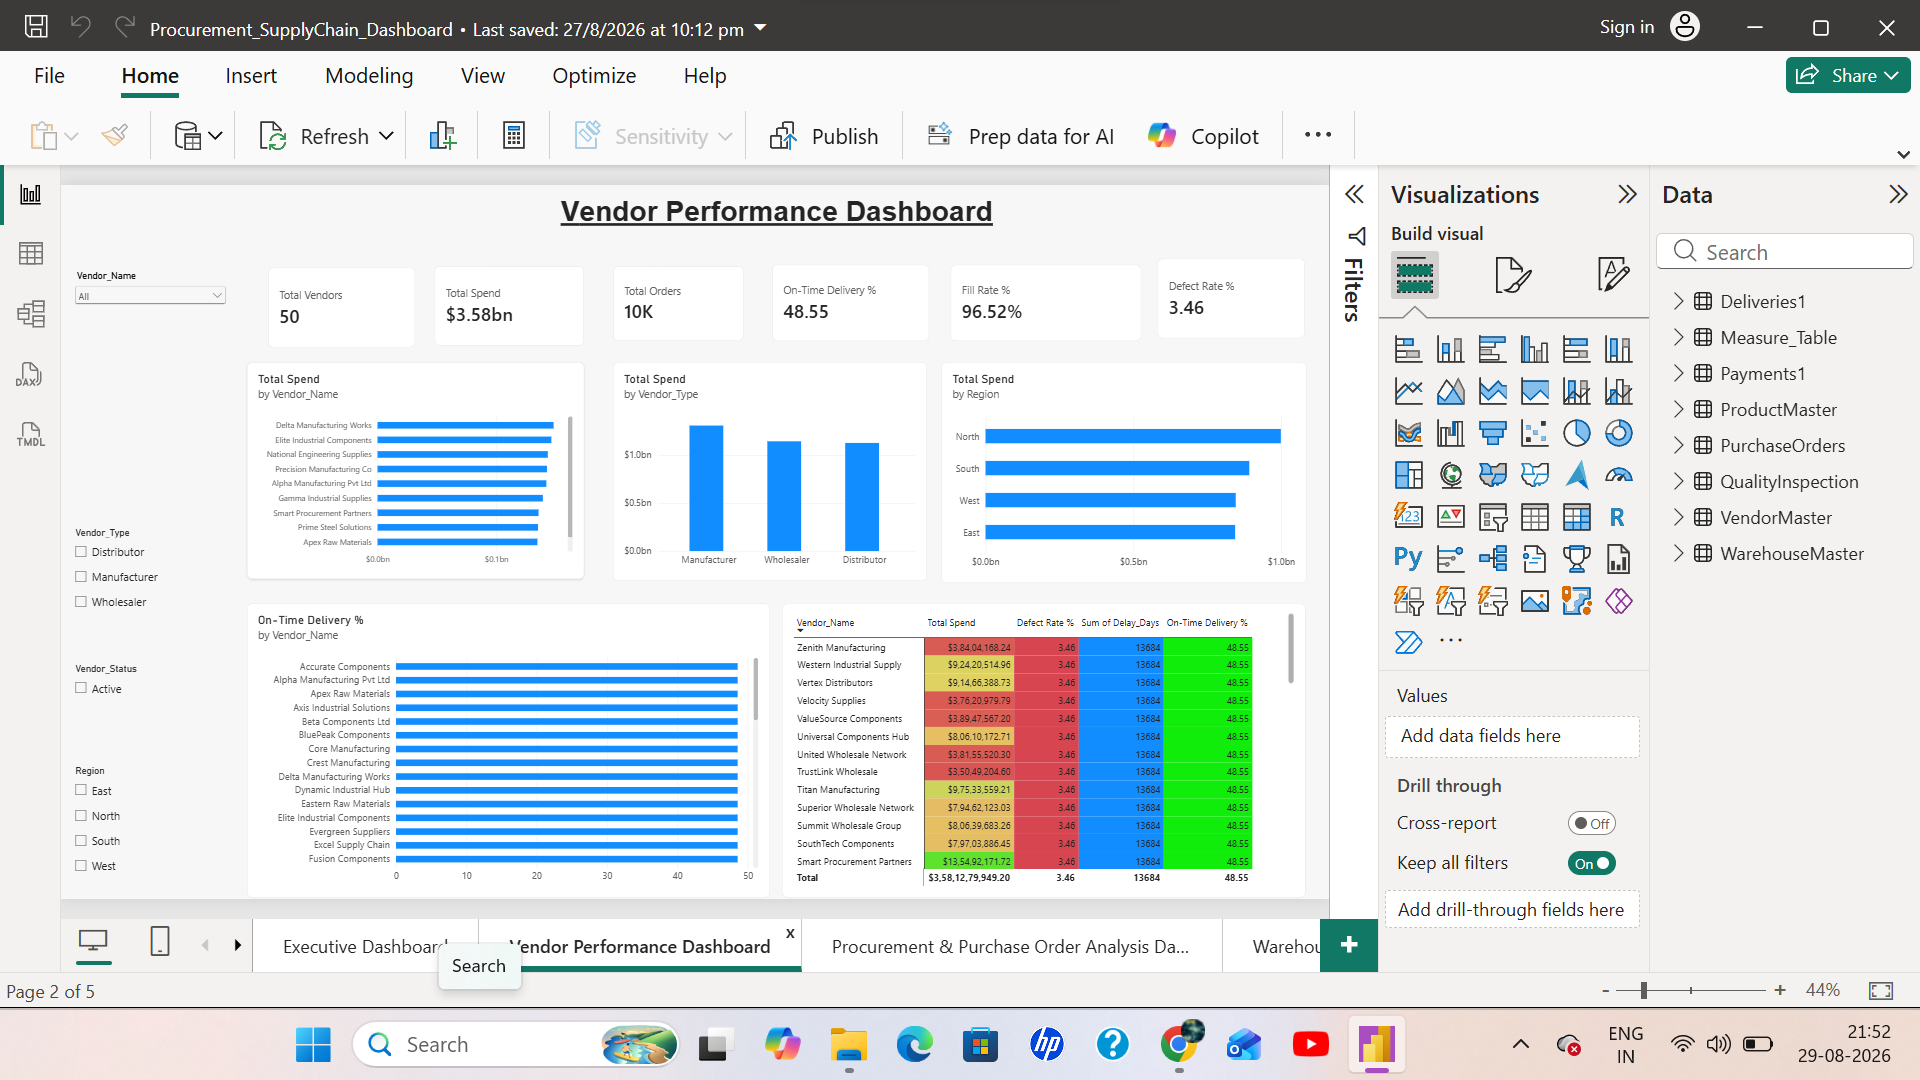

What the dashboard file says about the page in this screenshot:
{"tool":"powerbi","page":{"name":"Vendor Performance  Dashboard","canvas":[1920,1080],"ordinal":1},"visuals":[{"type":"cardVisual","fields":{"Data":["Measure_Table.Total Vendors"]},"box":[313.7,125.5,223.9,121.9],"z":0},{"type":"cardVisual","fields":{"Data":["Measure_Table.Total Spend"]},"box":[564.7,122.5,226.8,121.9],"z":1},{"type":"cardVisual","fields":{"Data":["Measure_Table.Total Orders"]},"box":[836.5,122.5,198.4,113.4],"z":2},{"type":"cardVisual","fields":{"Data":["Measure_Table.On-Time Delivery %"]},"box":[1075.5,119.5,238.1,116.2],"z":3},{"type":"cardVisual","fields":{"Data":["Measure_Table.Defect Rate %"]},"box":[1661.1,110.5,223.9,121.9],"z":5},{"type":"slicer","fields":{"Values":["VendorMaster.Vendor_Type"]},"box":[14.2,518.7,187.1,172.9],"z":7},{"type":"slicer","fields":{"Values":["VendorMaster.Vendor_Status"]},"box":[14.2,725.7,187.1,87.9],"z":8},{"type":"slicer","fields":{"Values":["VendorMaster.Region"]},"box":[14.2,878.7,209.8,181.4],"z":9},{"type":"slicer","fields":{"Values":["VendorMaster.Vendor_Name"]},"box":[14.9,128.5,239,239],"z":10},{"type":"clusteredBarChart","fields":{"Category":["VendorMaster.Vendor_Name"],"Y":["Measure_Table.Total Spend"]},"box":[280.8,268.9,510.9,328.6],"z":11},{"type":"pivotTable","fields":{"Rows":["VendorMaster.Vendor_Name"],"Values":["Measure_Table.Total Spend","Measure_Table.Defect Rate %","Sum(Deliveries1.Delay_Days)","Measure_Table.On-Time Delivery %"]},"box":[1093.5,633.4,791.7,445.2],"z":12},{"type":"clusteredColumnChart","fields":{"Category":["VendorMaster.Vendor_Type"],"Y":["Measure_Table.Total Spend"]},"box":[836.5,268.9,475,331.6],"z":13},{"type":"barChart","fields":{"Category":["VendorMaster.Region"],"Y":["Measure_Table.Total Spend"]},"box":[1332.5,268.9,552.7,334.6],"z":14},{"type":"barChart","fields":{"Category":["VendorMaster.Vendor_Name"],"Y":["Measure_Table.On-Time Delivery %"]},"box":[280.8,633.4,791.7,445.2],"z":15},{"type":"cardVisual","fields":{"Data":["Measure_Table.Fill Rate %"]},"box":[1347.4,119.5,289.8,116.5],"z":16},{"type":"textbox","box":[280.8,9,1604.3,101.6],"z":17}]}

Visuals, with their boxes on the page's 1920x1080 design canvas (x1, y1, x2, y2). These are canvas units, not pixel positions in the 1920x1080 screenshot, which may show the page scaled, cropped or inside an application window:
cardVisual - Measure_Table.Total Vendors: pyautogui.locateOnScreen(314, 126, 538, 247)
cardVisual - Measure_Table.Total Spend: pyautogui.locateOnScreen(565, 122, 792, 244)
cardVisual - Measure_Table.Total Orders: pyautogui.locateOnScreen(836, 122, 1035, 236)
cardVisual - Measure_Table.On-Time Delivery %: pyautogui.locateOnScreen(1076, 120, 1314, 236)
cardVisual - Measure_Table.Defect Rate %: pyautogui.locateOnScreen(1661, 110, 1885, 232)
slicer - VendorMaster.Vendor_Type: pyautogui.locateOnScreen(14, 519, 201, 692)
slicer - VendorMaster.Vendor_Status: pyautogui.locateOnScreen(14, 726, 201, 814)
slicer - VendorMaster.Region: pyautogui.locateOnScreen(14, 879, 224, 1060)
slicer - VendorMaster.Vendor_Name: pyautogui.locateOnScreen(15, 128, 254, 368)
clusteredBarChart - VendorMaster.Vendor_Name x Measure_Table.Total Spend: pyautogui.locateOnScreen(281, 269, 792, 598)
pivotTable - VendorMaster.Vendor_Name x Measure_Table.Total Spend: pyautogui.locateOnScreen(1094, 633, 1885, 1079)
clusteredColumnChart - VendorMaster.Vendor_Type x Measure_Table.Total Spend: pyautogui.locateOnScreen(836, 269, 1312, 600)
barChart - VendorMaster.Region x Measure_Table.Total Spend: pyautogui.locateOnScreen(1332, 269, 1885, 604)
barChart - VendorMaster.Vendor_Name x Measure_Table.On-Time Delivery %: pyautogui.locateOnScreen(281, 633, 1072, 1079)
cardVisual - Measure_Table.Fill Rate %: pyautogui.locateOnScreen(1347, 120, 1637, 236)
textbox: pyautogui.locateOnScreen(281, 9, 1885, 111)
